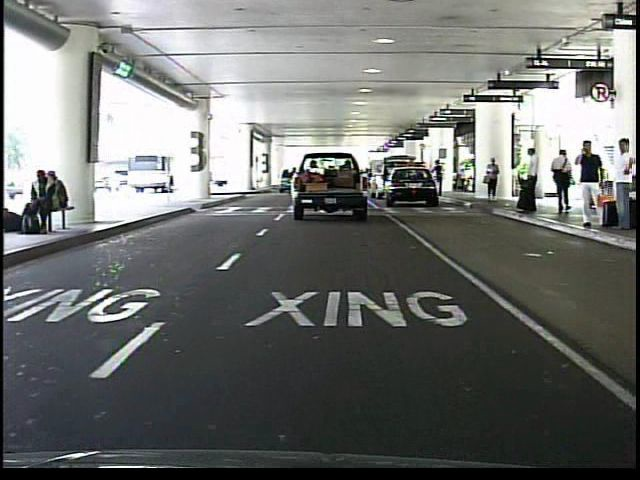person: (571, 138, 608, 233), (609, 136, 634, 236), (515, 145, 542, 218), (551, 145, 577, 217), (483, 157, 502, 205), (433, 159, 445, 200)
